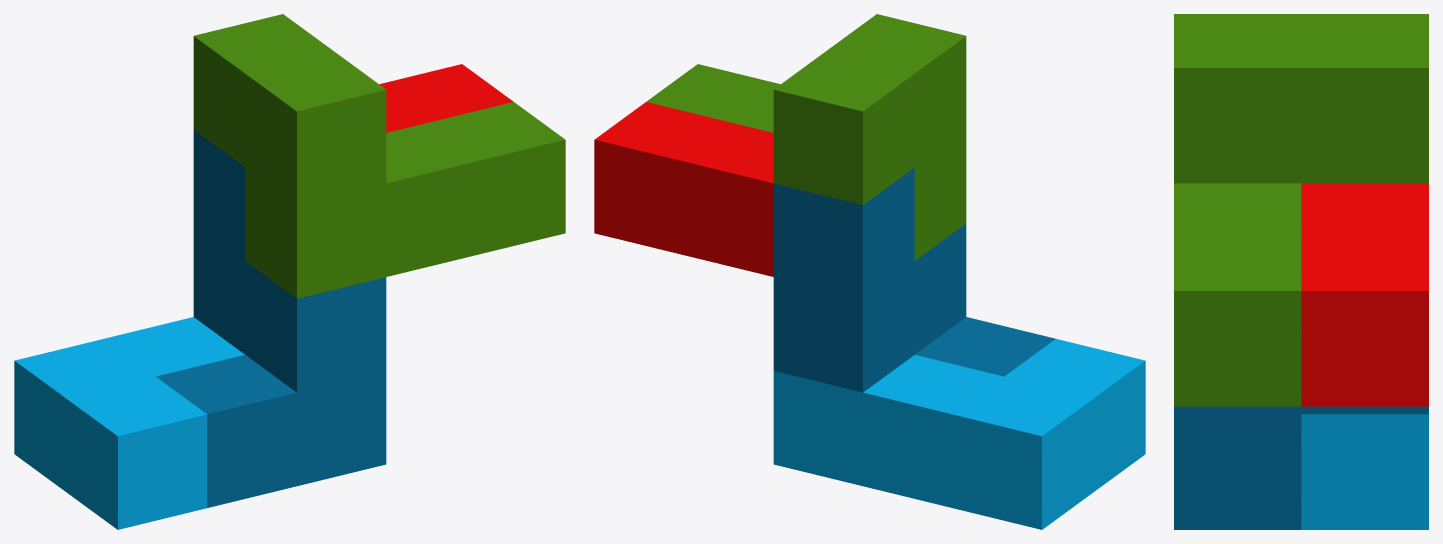
3 views of the same model, side by side, from view 1: azimuth 30°, elevation 25°; view 2: azimuth 150°, elevation 25°; view 3: azimuth 270°, elevation 25° (orthographic). The views are drawn at different scales.
Parts seen in each view (by area): view 1: mergedBlocks(Clone); view 2: mergedBlocks(Clone); view 3: mergedBlocks(Clone).
Part boxes in pixels (left/top/right/bottom): mergedBlocks(Clone): left=14, top=14, right=565, bottom=529; mergedBlocks(Clone): left=594, top=14, right=1145, bottom=529; mergedBlocks(Clone): left=1174, top=14, right=1428, bottom=529.
Size of the model in its own units: 5 by 4 by 2.
4 materials, 4 textured.
